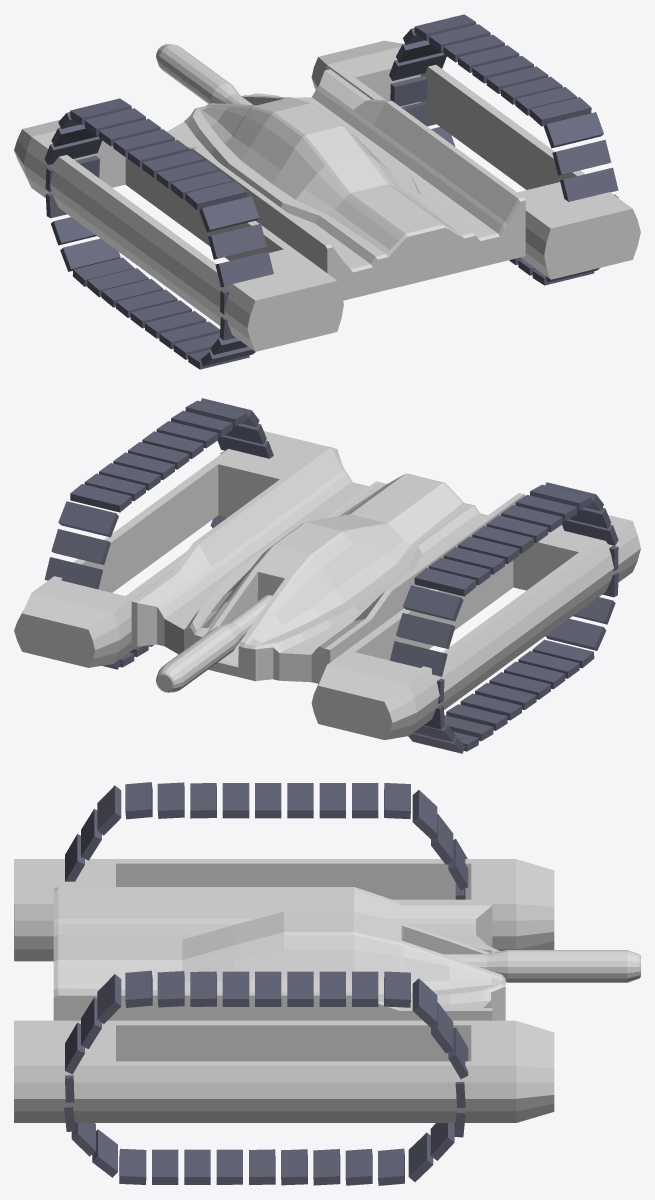
File: TankModel-2026-08-13-v003.glb
3 renders of one model, top to bottom at view 1: azimuth 30°, elevation 25°; view 2: azimuth 150°, elevation 25°; view 3: azimuth 270°, elevation 25°, orthographic. The views are drawn at different scales.
Parts seen in each view (by area): view 1: Body, Side, Track_0_Shoe_13.001, Track_0_Shoe_14.001, Track_0_Shoe_15.001, Cannon, Track_0_Shoe_12.001, Track_0_Shoe_1.001, Track_0_Shoe_8.001, Track_0_Shoe_5.001, Track_0_Shoe_6.001, Track_0_Shoe_7.001 (+19 smaller); view 2: Side, Body, Cannon, Track_0_Shoe_3.001, Track_0_Shoe_2.001, Track_0_Shoe_1.001, Track_0_Shoe_4.001, Track_0_Shoe_6.001, Track_0_Shoe_8.001, Track_0_Shoe_9.001, Track_0_Shoe_7.001, Track_0_Shoe_5.001 (+17 smaller); view 3: Side, Body, Cannon, Track_0_Shoe_9.001, Track_0_Shoe_12.001, Track_0_Shoe_11.001, Track_0_Shoe_7.001, Track_0_Shoe_5.001, Track_0_Shoe_6.001, Track_0_Shoe_8.001, Track_0_Shoe_4.001, Track_0_Shoe_10.001 (+19 smaller).
Boxes of the visible parts, left/top/right/bottom form: Body: left=158, top=69, right=525, bottom=300; Side: left=14, top=40, right=640, bottom=351; Track_0_Shoe_13.001: left=199, top=112, right=603, bottom=232; Track_0_Shoe_14.001: left=208, top=139, right=611, bottom=259; Track_0_Shoe_15.001: left=215, top=167, right=618, bottom=287; Cannon: left=156, top=44, right=252, bottom=104; Track_0_Shoe_12.001: left=185, top=97, right=591, bottom=210; Track_0_Shoe_1.001: left=44, top=52, right=446, bottom=164; Track_0_Shoe_8.001: left=128, top=56, right=533, bottom=167; Track_0_Shoe_5.001: left=84, top=24, right=490, bottom=135; Track_0_Shoe_6.001: left=99, top=34, right=504, bottom=146; Track_0_Shoe_7.001: left=113, top=45, right=519, bottom=156; Side: left=14, top=431, right=640, bottom=739; Body: left=131, top=446, right=525, bottom=683; Cannon: left=156, top=595, right=272, bottom=692; Track_0_Shoe_3.001: left=58, top=501, right=463, bottom=621; Track_0_Shoe_2.001: left=51, top=529, right=455, bottom=648; Track_0_Shoe_1.001: left=44, top=557, right=447, bottom=676; Track_0_Shoe_4.001: left=70, top=484, right=476, bottom=596; Track_0_Shoe_6.001: left=99, top=463, right=504, bottom=574; Track_0_Shoe_8.001: left=128, top=442, right=533, bottom=553; Track_0_Shoe_9.001: left=142, top=431, right=548, bottom=542; Track_0_Shoe_7.001: left=113, top=452, right=519, bottom=563; Track_0_Shoe_5.001: left=84, top=473, right=490, bottom=585; Side: left=14, top=859, right=554, bottom=1122; Body: left=53, top=887, right=505, bottom=1020; Cannon: left=443, top=950, right=640, bottom=982; Track_0_Shoe_9.001: left=222, top=783, right=249, bottom=1006; Track_0_Shoe_12.001: left=125, top=782, right=152, bottom=1007; Track_0_Shoe_11.001: left=157, top=782, right=184, bottom=1007; Track_0_Shoe_7.001: left=287, top=783, right=313, bottom=1006; Track_0_Shoe_5.001: left=352, top=783, right=378, bottom=1006; Track_0_Shoe_6.001: left=319, top=783, right=345, bottom=1006; Track_0_Shoe_8.001: left=255, top=783, right=281, bottom=1006; Track_0_Shoe_4.001: left=384, top=783, right=410, bottom=1007; Track_0_Shoe_10.001: left=190, top=783, right=216, bottom=1006.
Size of the model in its own units: 4.68 by 1.9 by 5.75.
